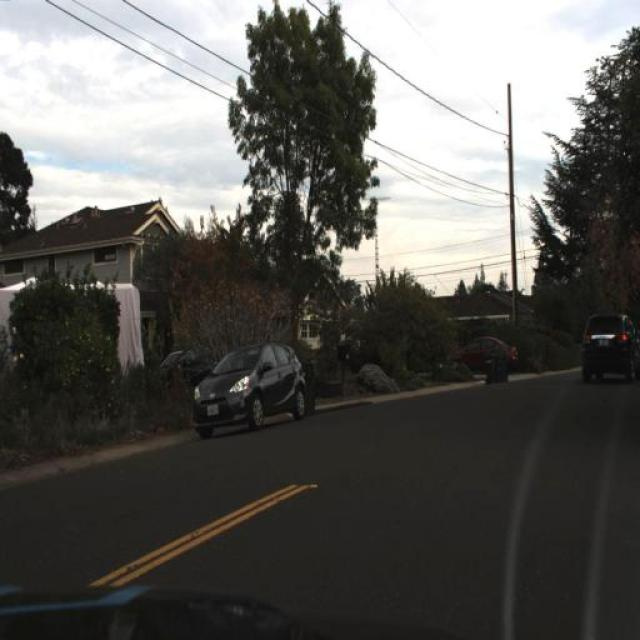car: (186, 336, 314, 445), (574, 291, 638, 398), (429, 318, 526, 388), (454, 331, 520, 377)
